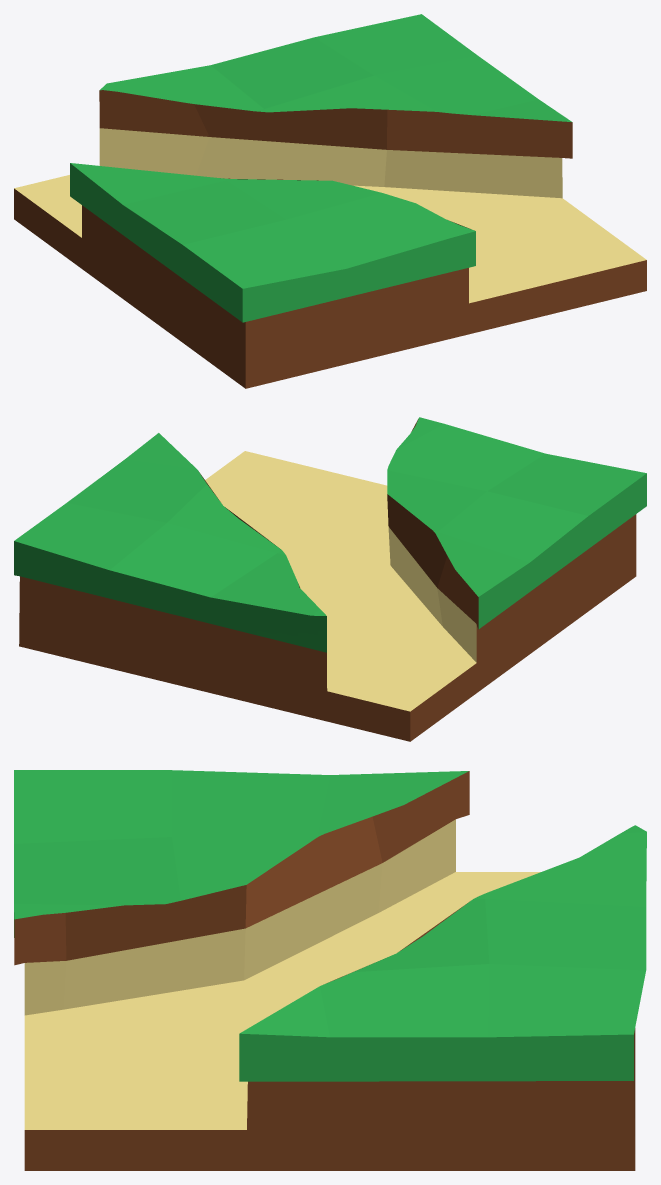
File: shinjuku.fbx
3 views of the same model, one above another, from view 1: azimuth 30°, elevation 25°; view 2: azimuth 150°, elevation 25°; view 3: azimuth 270°, elevation 25° (orthographic). The views are drawn at different scales.
Visible parts, largest first — view 1: Ground; view 2: Ground; view 3: Ground.
Boxes of the visible parts, x1,y1,x2,y2 form: Ground: (14,14,646,388); Ground: (14,417,646,741); Ground: (14,770,646,1170).
Size of the model in its own units: 2073 by 523 by 2073.
1 material, 1 textured.
